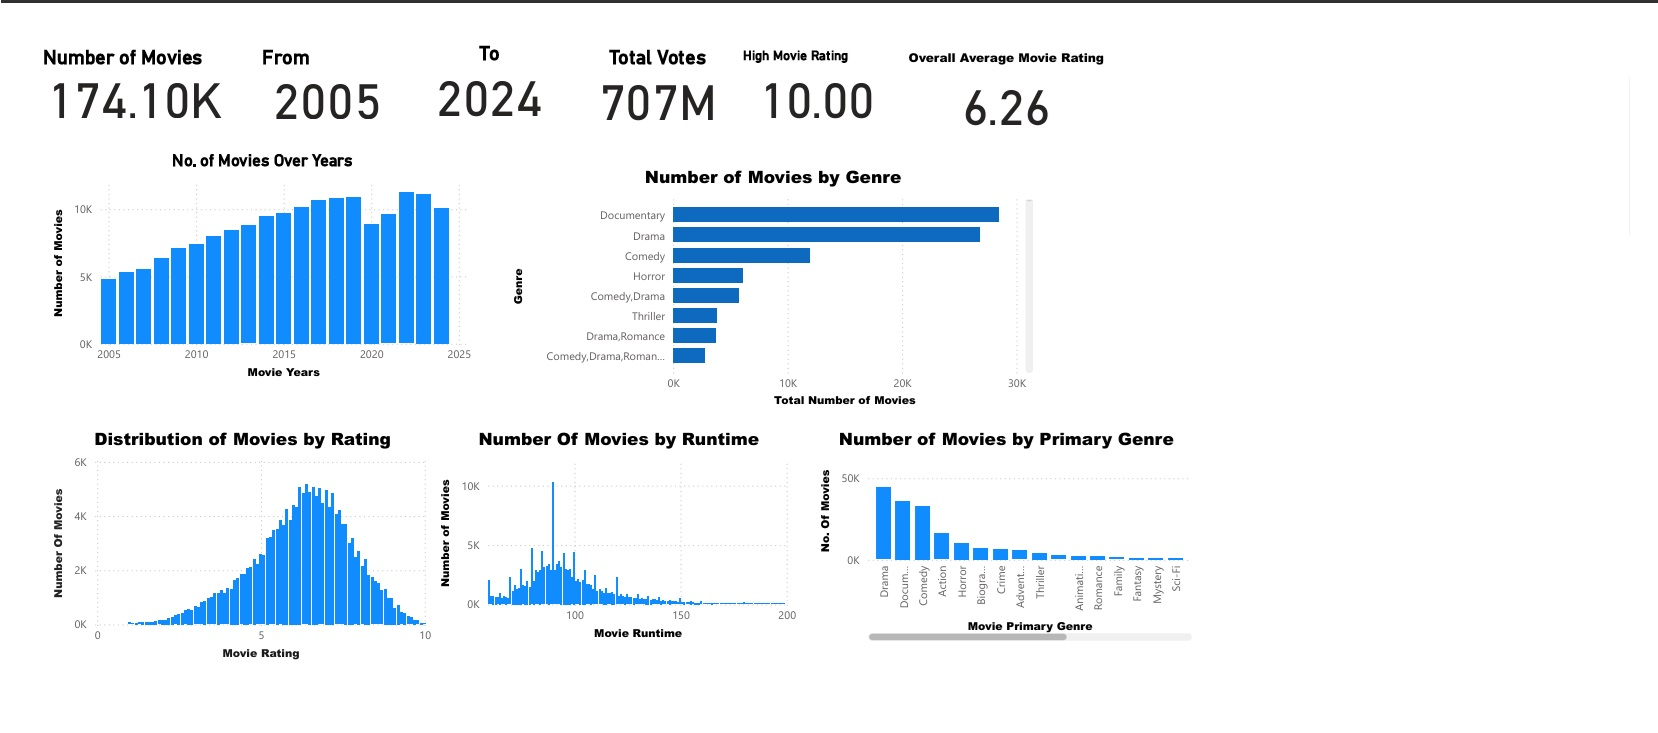

The page's visual inventory and layout, read from the dashboard file:
{"tool":"powerbi","page":{"name":"Overview","canvas":[1280,720],"ordinal":0},"visuals":[{"type":"card","title":"Number of Movies","fields":{"Values":["CountNonNull(title_basics_title_rating_movie V2.Title)"]},"box":[9.6,13.7,211.3,83.7],"z":0},{"type":"card","title":"From","fields":{"Values":["Min(title_basics_title_rating_movie V2.Year)"]},"box":[249.7,13.7,155.1,85.1],"z":1000},{"type":"card","title":"To","fields":{"Values":["Max(title_basics_title_rating_movie V2.Year)"]},"box":[422.6,9.6,163.3,87.8],"z":2000},{"type":"card","title":"Total Votes","fields":{"Values":["Sum(title_basics_title_rating_movie V2.Votes Number)"]},"box":[606.5,13.7,164.7,87.8],"z":3000},{"type":"clusteredColumnChart","title":"No. of Movies Over Years","fields":{"Category":["title_basics_title_rating_movie V2.Year"],"Y":["CountNonNull(title_basics_title_rating_movie V2.Title)"]},"box":[20.6,129,469.3,256.6],"z":4000},{"type":"barChart","title":"Number of Movies by Genre","fields":{"Y":["Count(title_basics_title_rating_movie V2.Title)"],"Category":["title_basics_title_rating_movie V2.Genre"]},"box":[525.6,144.1,580.4,273.1],"z":5000},{"type":"columnChart","title":"Distribution of Movies by Rating","fields":{"Category":["title_basics_title_rating_movie V2.Rating"],"Y":["CountNonNull(title_basics_title_rating_movie V2.Title)"]},"box":[20.6,430.9,425.4,263.5],"z":6000},{"type":"clusteredColumnChart","title":"Number Of Movies by Runtime","fields":{"Category":["title_basics_title_rating_movie V2.Runtime"],"Y":["CountNonNull(title_basics_title_rating_movie V2.Title)"]},"box":[446,430.9,400.7,241.5],"z":7000},{"type":"columnChart","title":"Number of Movies by Primary Genre","fields":{"Category":["title_basics_title_rating_movie V2.Primary Genre"],"Y":["CountNonNull(title_basics_title_rating_movie V2.Title)"]},"box":[863.1,430.9,417.2,241.5],"z":8000},{"type":"card","title":"High Movie Rating","fields":{"Values":["Max(title_basics_title_rating_movie V2.Rating)"]},"box":[778,16.5,171.5,85.1],"z":9000},{"type":"card","title":"Overall Average Movie Rating","fields":{"Values":["Avg(title_basics_title_rating_movie V2.Rating)"]},"box":[949.6,16.5,244.3,100.2],"z":10000}]}

Visuals, with their boxes on the page's 1280x720 design canvas (x1, y1, x2, y2). These are canvas units, not pixel positions in the 1658x733 screenshot, which may show the page scaled, cropped or inside an application window:
"Number of Movies" card: [10, 14, 221, 97]
"From" card: [250, 14, 405, 99]
"To" card: [423, 10, 586, 97]
"Total Votes" card: [606, 14, 771, 102]
"No. of Movies Over Years" clusteredColumnChart: [21, 129, 490, 386]
"Number of Movies by Genre" barChart: [526, 144, 1106, 417]
"Distribution of Movies by Rating" columnChart: [21, 431, 446, 694]
"Number Of Movies by Runtime" clusteredColumnChart: [446, 431, 847, 672]
"Number of Movies by Primary Genre" columnChart: [863, 431, 1280, 672]
"High Movie Rating" card: [778, 16, 950, 102]
"Overall Average Movie Rating" card: [950, 16, 1194, 117]
